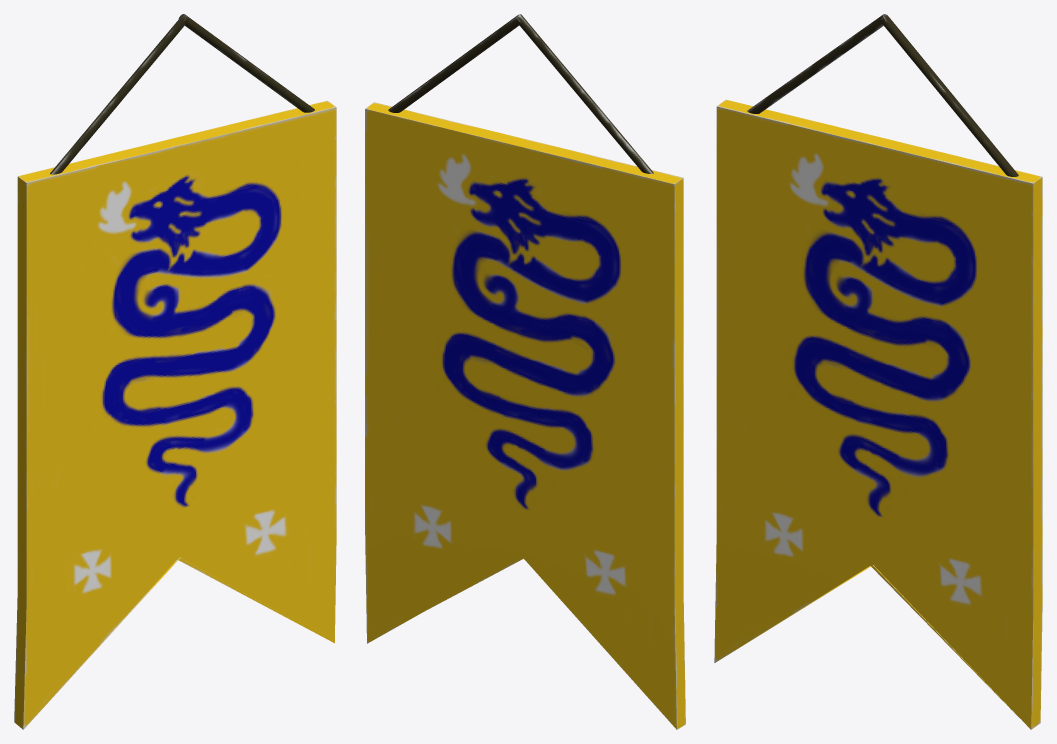
File: banner.fbx
3 views of the same model, side by side, from view 1: azimuth 30°, elevation 25°; view 2: azimuth 150°, elevation 25°; view 3: azimuth 330°, elevation 25° (orthographic). The views are drawn at different scales.
Visible parts, largest first — view 1: pCylinder59; view 2: pCylinder59; view 3: pCylinder59.
Boxes of the visible parts, x1,y1,x2,y2 form: pCylinder59: (14, 14, 336, 729); pCylinder59: (365, 14, 685, 729); pCylinder59: (714, 14, 1042, 729).
Bounding box in the file's own units: 1.49 × 3.07 × 0.0836.
